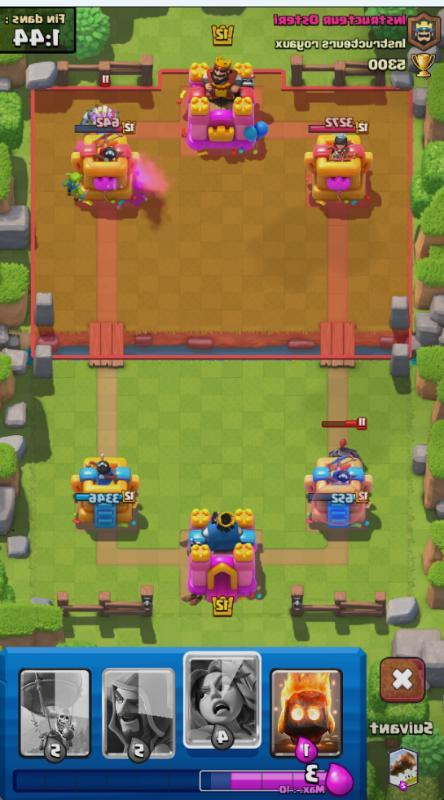enemy_mega_knight: (323, 437, 367, 457)
enemy_royal_ghost: (79, 97, 121, 124)
player_goblins: (62, 168, 86, 202)
